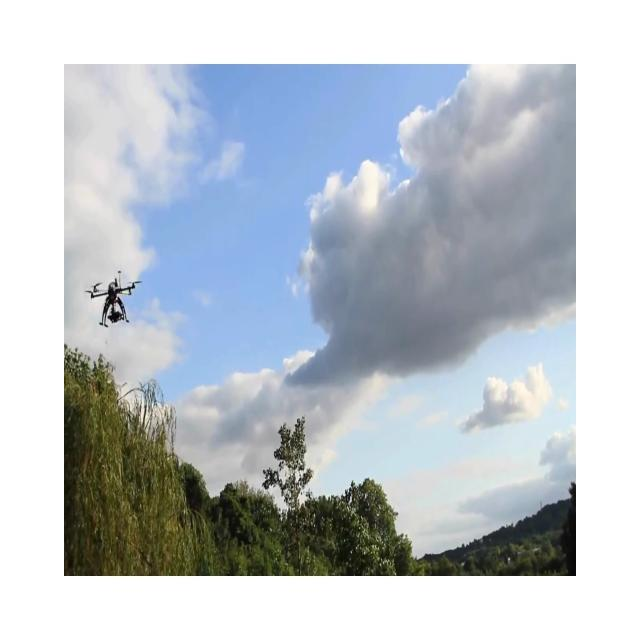drone: (84, 270, 142, 328)
